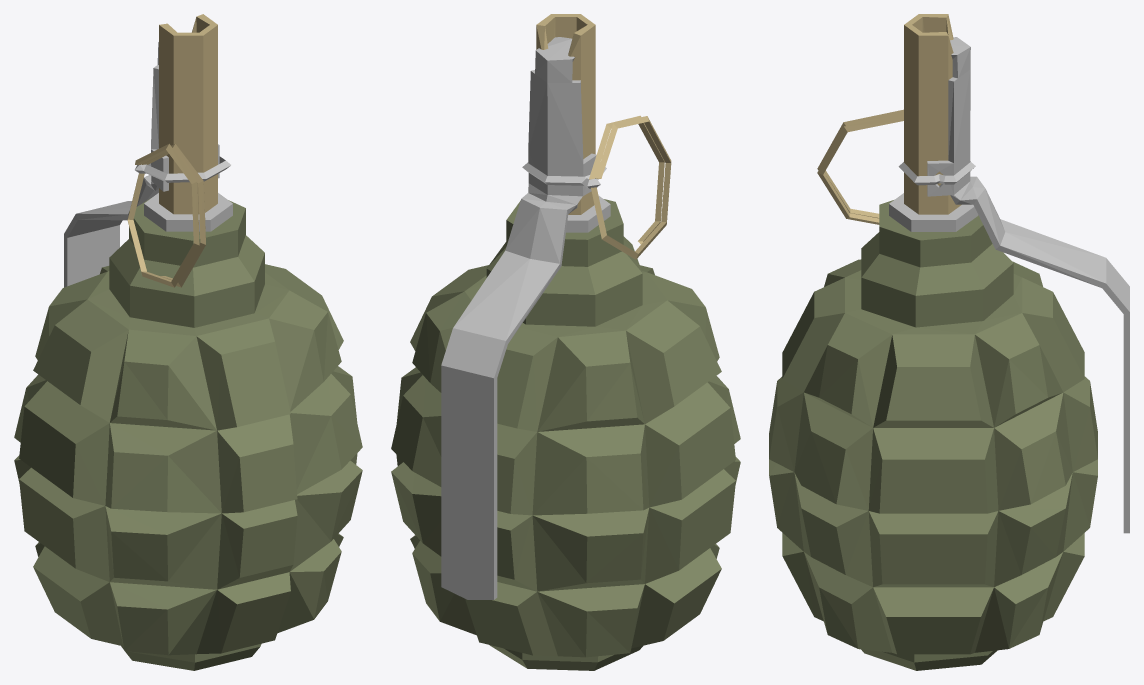
The picture shows the model from 3 angles, left to right: view 1: azimuth 30°, elevation 25°; view 2: azimuth 150°, elevation 25°; view 3: azimuth 270°, elevation 25°; orthographic projection.
Parts seen in each view (by area): view 1: F1; view 2: F1; view 3: F1.
Part boxes in pixels (left/top/right/bottom): F1: left=14, top=14, right=362, bottom=670; F1: left=391, top=14, right=740, bottom=670; F1: left=769, top=14, right=1129, bottom=670.
Size of the model in its own units: 0.0571 by 0.1175 by 0.0625.
